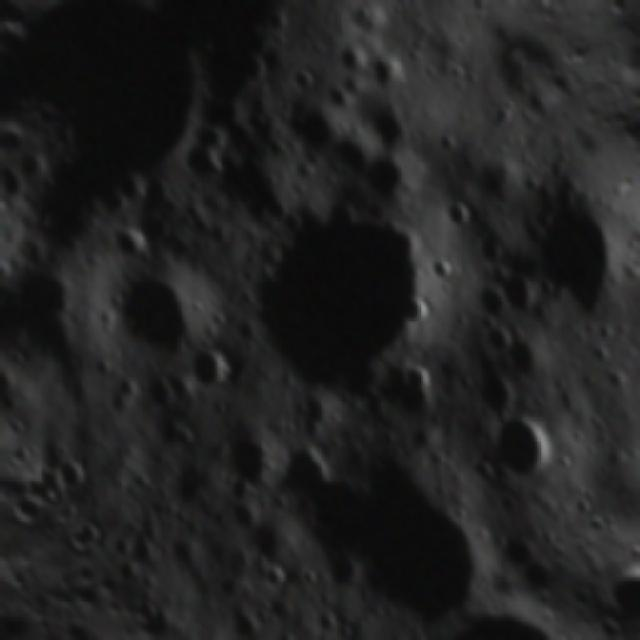crater: (196, 155, 484, 443), (298, 420, 534, 640), (85, 225, 248, 387), (498, 171, 640, 329), (470, 390, 576, 496), (198, 404, 304, 510), (272, 91, 353, 172), (352, 88, 421, 161), (492, 318, 562, 387), (176, 334, 238, 398), (175, 122, 233, 182), (461, 271, 519, 331), (41, 445, 96, 501), (358, 38, 407, 88), (0, 156, 38, 214), (396, 356, 442, 402), (331, 35, 375, 79), (231, 44, 274, 88), (253, 554, 293, 594), (436, 193, 475, 233), (422, 250, 461, 288), (0, 244, 20, 290), (635, 322, 640, 442), (0, 263, 6, 352), (634, 429, 640, 469)
